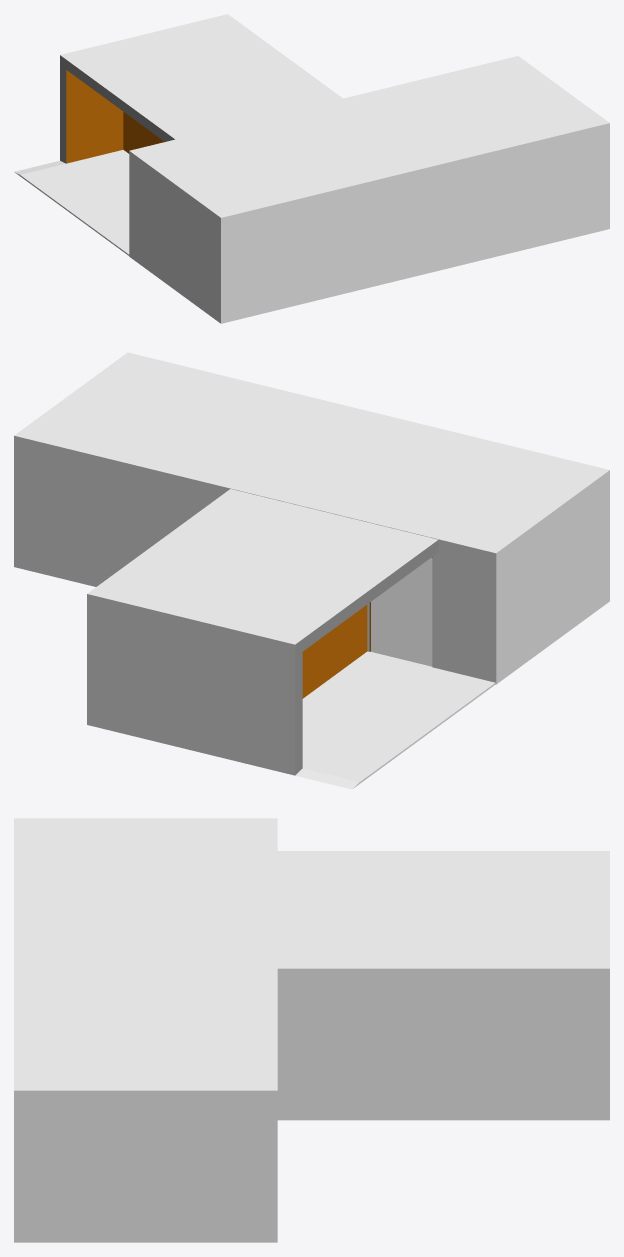
Rendered from Room02.fbx.
3 views of the same model, one above another, from view 1: azimuth 30°, elevation 25°; view 2: azimuth 150°, elevation 25°; view 3: azimuth 270°, elevation 25° (orthographic). The views are drawn at different scales.
Visible parts, largest first — view 1: Room02; view 2: Room02; view 3: Room02.
Boxes of the visible parts, x1,y1,x2,y2 form: Room02: [14, 14, 609, 323]; Room02: [14, 352, 609, 789]; Room02: [14, 818, 609, 1242].
Size of the model in its own units: 939 by 244 by 868.
